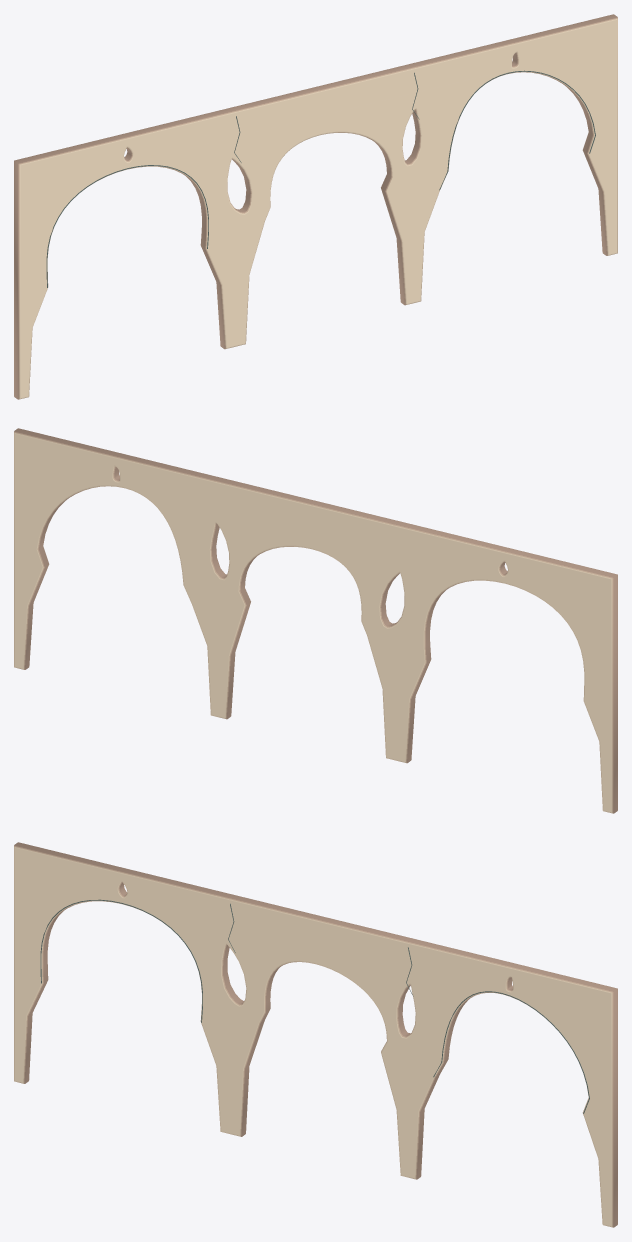
The model's file is storey-facade-b-v3.glb.
3 renders of one model, top to bottom at view 1: azimuth 30°, elevation 25°; view 2: azimuth 150°, elevation 25°; view 3: azimuth 330°, elevation 25°, orthographic.
Parts seen in each view (by area): view 1: TG03_FACADE_B_V3; view 2: TG03_FACADE_B_V3; view 3: TG03_FACADE_B_V3.
Part boxes in pixels (x1,y1,x2,y2): TG03_FACADE_B_V3: [14, 14, 617, 399]; TG03_FACADE_B_V3: [14, 428, 617, 813]; TG03_FACADE_B_V3: [14, 842, 617, 1227].
Bounding box in the file's own units: 19.21 × 7.23 × 0.335.
